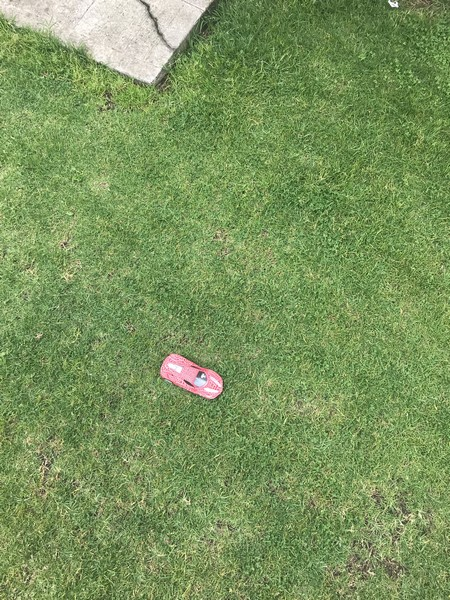RC: (158, 352, 225, 401)
